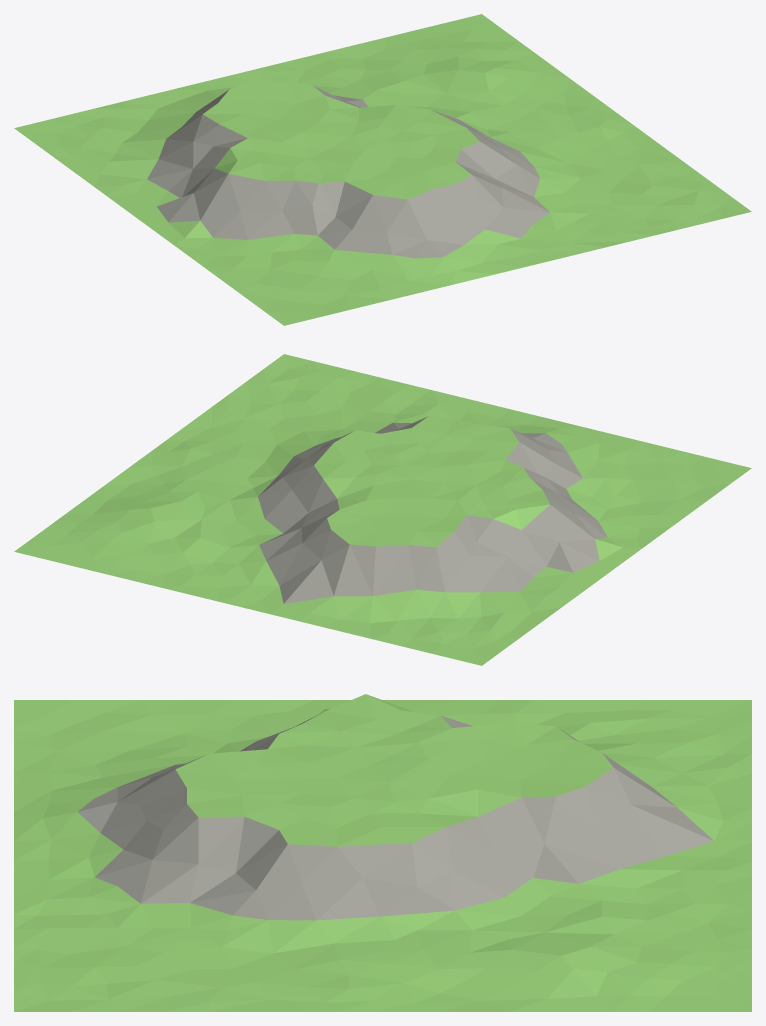
The model's file is terrain003.fbx.
The picture shows the model from 3 angles, top to bottom: view 1: azimuth 30°, elevation 25°; view 2: azimuth 150°, elevation 25°; view 3: azimuth 270°, elevation 25°; orthographic projection. The views are drawn at different scales.
Parts seen in each view (by area): view 1: CPT_Terrain_M_e_16; view 2: CPT_Terrain_M_e_16; view 3: CPT_Terrain_M_e_16.
Boxes of the visible parts, x1,y1,x2,y2 form: CPT_Terrain_M_e_16: (14, 14, 751, 325); CPT_Terrain_M_e_16: (14, 354, 751, 665); CPT_Terrain_M_e_16: (14, 694, 751, 1011).
Bounding box in the file's own units: 5000 × 5000 × 418.
Materials: 1 (1 with a texture image).
